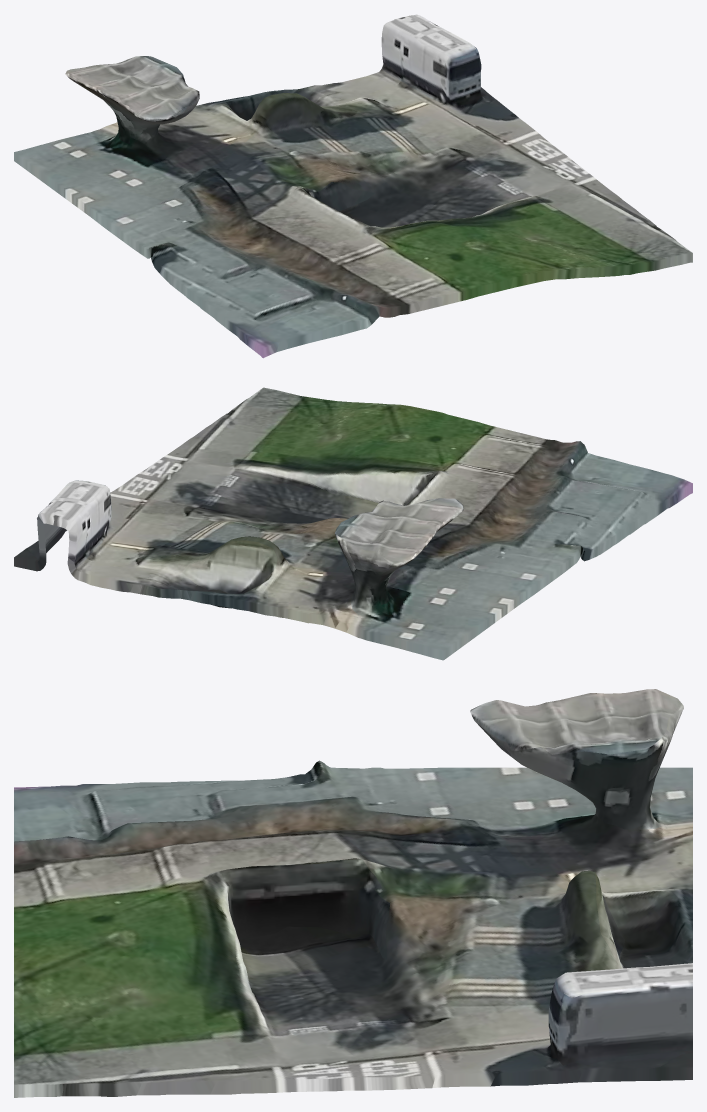
File: z20-167750-405247-h0-yup-uvflip-v3-world.glb
The picture shows the model from 3 angles, top to bottom: view 1: azimuth 30°, elevation 25°; view 2: azimuth 150°, elevation 25°; view 3: azimuth 270°, elevation 25°; orthographic projection. The views are drawn at different scales.
Size of the model in its own units: 30.16 by 7.68 by 30.32.
1 material, 1 textured.
